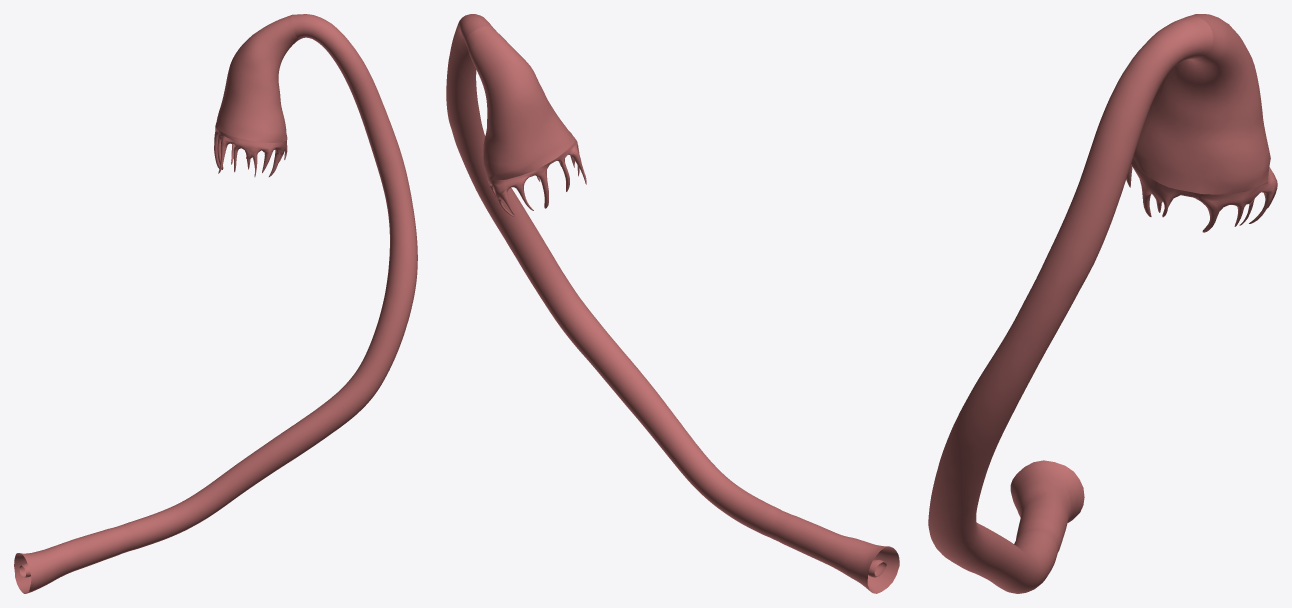
The model's file is VH_F_Fallopian_Tube_L.fbx.
The picture shows the model from 3 angles, left to right: view 1: azimuth 30°, elevation 25°; view 2: azimuth 150°, elevation 25°; view 3: azimuth 270°, elevation 25°; orthographic projection. The views are drawn at different scales.
Visible parts, largest first — view 1: VH_F_ampulla_of_uterine_tube_L, VH_F_uterine_tube_infundibulum_L, VH_F_isthmus_of_fallopian_tube_L, VH_F_fibria_of_uterine_tube_L; view 2: VH_F_ampulla_of_uterine_tube_L, VH_F_uterine_tube_infundibulum_L, VH_F_isthmus_of_fallopian_tube_L, VH_F_fibria_of_uterine_tube_L; view 3: VH_F_ampulla_of_uterine_tube_L, VH_F_uterine_tube_infundibulum_L, VH_F_isthmus_of_fallopian_tube_L, VH_F_fibria_of_uterine_tube_L.
Part boxes in pixels (<box>): VH_F_ampulla_of_uterine_tube_L: <box>118,14,417,551</box>; VH_F_uterine_tube_infundibulum_L: <box>215,15,299,142</box>; VH_F_isthmus_of_fallopian_tube_L: <box>14,526,127,593</box>; VH_F_fibria_of_uterine_tube_L: <box>214,127,287,176</box>; VH_F_ampulla_of_uterine_tube_L: <box>446,14,785,539</box>; VH_F_uterine_tube_infundibulum_L: <box>465,26,574,180</box>; VH_F_isthmus_of_fallopian_tube_L: <box>771,512,899,593</box>; VH_F_fibria_of_uterine_tube_L: <box>486,137,586,216</box>; VH_F_ampulla_of_uterine_tube_L: <box>928,16,1213,593</box>; VH_F_uterine_tube_infundibulum_L: <box>1133,14,1270,194</box>; VH_F_isthmus_of_fallopian_tube_L: <box>1010,460,1084,551</box>; VH_F_fibria_of_uterine_tube_L: <box>1126,158,1277,232</box>.
Size of the model in its own units: 3.86 by 4.45 by 1.85.
